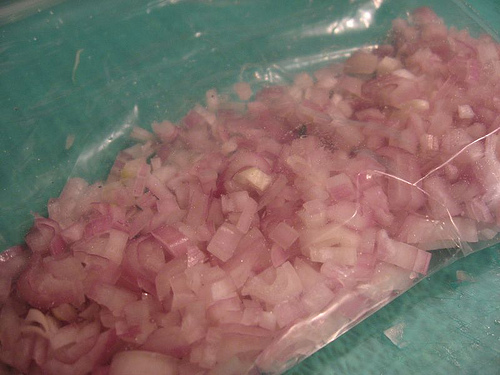onion: (1, 3, 499, 373)
